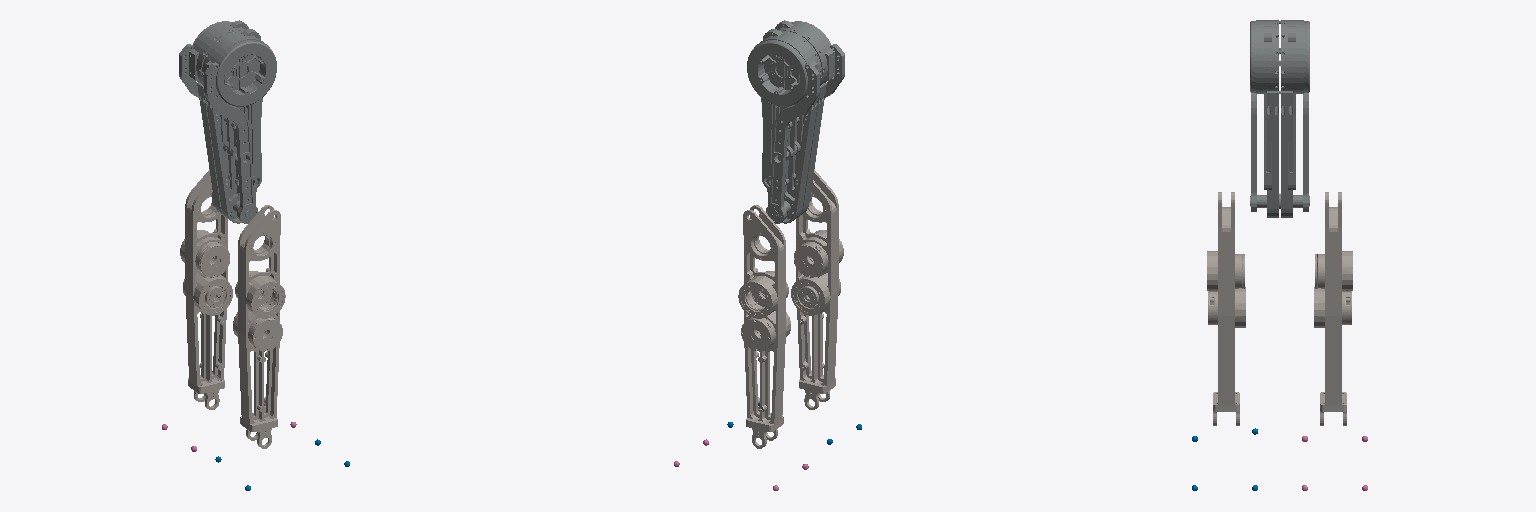
robot.urdf — biped_v3:
<?xml version="1.0" ?>
<!-- =================================================================================== -->
<!-- |    This document was autogenerated by xacro from [local-path]/workspace/kuavo-ros-control/src/humanoid-control/humanoid_interface_drake/models/biped_gen4.2/urdf/biped_v3.xacro | -->
<!-- |    EDITING THIS FILE BY HAND IS NOT RECOMMENDED                                 | -->
<!-- =================================================================================== -->
<robot name="biped_v3" xmlns:drake="https://drake.mit.edu">
  <link name="torso">
    <inertial>
      <origin rpy="0 0 0" xyz="-0.01779947 0.00029663 0.18176446"/>
      <mass value="30.24184316"/>
      <inertia ixx="0.84217451" ixy="-0.00019450" ixz="0.06746774" iyy="0.73769958" iyz="-0.00007935" izz="0.24371683"/>
    </inertial>
    <visual>
      <origin rpy="0 0 0" xyz="0 0 0"/>
      <geometry>
        <mesh filename="../../meshes/torso.STL"/>
      </geometry>
      <material name="">
        <color rgba="0.43137 0.45098 0.43137 1"/>
      </material>
    </visual>
    <!-- <collision>
      <origin xyz="0 0 0" rpy="0 0 0" />
      <geometry>
        <mesh filename="../../meshes/torso.STL" />
      </geometry>
    </collision> -->
  </link>
  <link name="l_leg_roll">
    <inertial>
      <origin rpy="0 0 0" xyz="-0.00430148 -0.00002708 -0.00851195"/>
      <mass value="1.71093115"/>
      <inertia ixx="0.00206092" ixy="-0.00000197" ixz="-0.00006944" iyy="0.00277274" iyz="0.00000510" izz="0.00370826"/>
    </inertial>
    <visual>
      <origin rpy="0 0 0" xyz="0 0 0"/>
      <geometry>
        <mesh filename="../../meshes/l_leg_roll.STL"/>
      </geometry>
      <material name="">
        <color rgba="0.6902 0.65882 0.63922 1"/>
      </material>
    </visual>
  </link>
  <joint name="l_leg_roll_joint" type="continuous">
    <origin rpy="0 0 0" xyz="-0.0024999 0.087 -0.066"/>
    <parent link="torso"/>
    <child link="l_leg_roll"/>
    <axis xyz="1 0 0"/>
    <limit effort="100" lower="-0.78" upper="1.57" velocity="25"/>
  </joint>
  <!--        ssss -->
  <transmission type="SimpleTransmission">
    <joint name="l_leg_roll_joint"/>
    <actuator name="l_leg_roll_motor"/>
  </transmission>
  <!-- sssssssss -->
  <link name="l_leg_yaw">
    <inertial>
      <origin rpy="0 0 0" xyz="0.00000000 -0.00322560 -0.09080869"/>
      <mass value="0.55762936"/>
      <inertia ixx="0.00213816" ixy="0.00000000" ixz="-0.00000003" iyy="0.00118284" iyz="0.00004162" izz="0.00139547"/>
    </inertial>
    <visual>
      <origin rpy="0 0 0" xyz="0 0 0"/>
      <geometry>
        <mesh filename="../../meshes/l_leg_yaw.STL"/>
      </geometry>
      <material name="">
        <color rgba="0.65098 0.61961 0.58824 1"/>
      </material>
    </visual>
  </link>
  <joint name="l_leg_yaw_joint" type="continuous">
    <origin rpy="0 0 0" xyz="0 0 0"/>
    <parent link="l_leg_roll"/>
    <child link="l_leg_yaw"/>
    <axis xyz="0 0 1"/>
    <limit effort="100" lower="-1.57" upper="1.57" velocity="25"/>
  </joint>
  <!--        ssss -->
  <transmission type="SimpleTransmission">
    <joint name="l_leg_yaw_joint"/>
    <actuator name="l_leg_yaw_motor"/>
  </transmission>
  <!-- sssssssss -->
  <link name="l_leg_pitch">
    <inertial>
      <origin rpy="0 0 0" xyz="0.00185677 0.01023458 -0.08558380"/>
      <mass value="4.43577451"/>
      <inertia ixx="0.04271209" ixy="-0.00000777" ixz="-0.00143032" iyy="0.04341831" iyz="-0.00092942" izz="0.01102339"/>
    </inertial>
    <visual>
      <origin rpy="0 0 0" xyz="0 0 0"/>
      <geometry>
        <mesh filename="../../meshes/l_leg_pitch.STL"/>
      </geometry>
      <material name="">
        <color rgba="0.52941 0.54902 0.54902 1"/>
      </material>
    </visual>
  </link>
  <joint name="l_leg_pitch_joint" type="continuous">
    <origin rpy="0 0 0" xyz="0 0.0 -0.1287"/>
    <parent link="l_leg_yaw"/>
    <child link="l_leg_pitch"/>
    <axis xyz="0 1 0"/>
    <limit effort="100" lower="-2.35" upper="0.78" velocity="47"/>
  </joint>
  <!--        ssss -->
  <transmission type="SimpleTransmission">
    <joint name="l_leg_pitch_joint"/>
    <actuator name="l_leg_pitch_motor"/>
  </transmission>
  <!-- sssssssss -->
  <link name="l_knee">
    <inertial>
      <origin rpy="0 0 0" xyz="0.00716677 -0.00006696 -0.11481925"/>
      <mass value="1.61274530"/>
      <inertia ixx="0.01103699" ixy="0.00000084" ixz="-0.00000711" iyy="0.01095123" iyz="0.00000987" izz="0.00087225"/>
    </inertial>
    <visual>
      <origin rpy="0 0 0" xyz="0 0 0"/>
      <geometry>
        <mesh filename="../../meshes/l_knee.STL"/>
      </geometry>
      <material name="">
        <color rgba="0.68627 0.65882 0.63922 1"/>
      </material>
    </visual>
  </link>
  <joint name="l_knee_pitch_joint" type="revolute">
    <origin rpy="0 0 0" xyz="0.0 0.0 -0.284"/>
    <parent link="l_leg_pitch"/>
    <child link="l_knee"/>
    <axis xyz="0 1 0"/>
    <limit effort="100" lower="0.0" upper="2.618" velocity="47"/>
  </joint>
  <!--        ssss -->
  <transmission type="SimpleTransmission">
    <joint name="l_knee_pitch_joint"/>
    <actuator name="l_knee_pitch_motor"/>
  </transmission>
  <!-- sssssssss -->
  <link name="l_foot_pitch">
    <inertial>
      <origin rpy="0 0 0" xyz="0.00000000 0.00000000 0"/>
      <mass value="0.07193524"/>
      <inertia ixx="0.00000692" ixy="0.00000000" ixz="0.00000000" iyy="0.00000692" iyz="0.00000000" izz="0.00001218"/>
    </inertial>
    <visual>
      <origin rpy="0 0 0" xyz="0 0 0"/>
      <geometry>
        <mesh filename="../../meshes/l_foot_pitch.STL"/>
      </geometry>
      <material name="">
        <color rgba="0.6902 0.65882 0.63922 1"/>
      </material>
    </visual>
  </link>
  <joint name="l_foot_pitch_joint" type="continuous">
    <origin rpy="0 0 0" xyz="0 0.0 -0.346"/>
    <parent link="l_knee"/>
    <child link="l_foot_pitch"/>
    <axis xyz="0 1 0"/>
    <limit effort="100" lower="-1.57" upper="1.57" velocity="25"/>
  </joint>
  <transmission type="SimpleTransmission">
    <joint name="l_foot_pitch_joint"/>
    <actuator name="l_foot_pitch_motor"/>
  </transmission>
  <!-- sssssssss -->
  <link name="l_foot_roll">
    <inertial>
      <origin rpy="0 0 0" xyz="0.03730703 -0.00000226 -0.03934407"/>
      <mass value="0.49004366"/>
      <inertia ixx="0.00037622" ixy="-0.00000003" ixz="-0.00004693" iyy="0.00157919" iyz="0.00000000" izz="0.00171680"/>
    </inertial>
    <visual>
      <origin rpy="0 0 0" xyz="0 0 0"/>
      <geometry>
        <mesh filename="../../meshes/l_foot_roll.STL"/>
      </geometry>
      <material name="">
        <color rgba="0.6902 0.65882 0.63922 1"/>
      </material>
    </visual>
    <visual>
      <origin rpy="0 0 0" xyz="-0.04937 0.04773 -0.0593"/>
      <geometry>
        <sphere radius="0.005"/>
      </geometry>
    </visual>
    <collision>
      <origin rpy="0 0 0" xyz="-0.04937 0.04773 -0.0593"/>
      <geometry>
        <sphere radius="0.005"/>
      </geometry>
    </collision>
    <visual>
      <origin rpy="0 0 0" xyz="-0.04937 -0.04773 -0.0593"/>
      <geometry>
        <sphere radius="0.005"/>
      </geometry>
    </visual>
    <collision>
      <origin rpy="0 0 0" xyz="-0.04937 -0.04773 -0.0593"/>
      <geometry>
        <sphere radius="0.005"/>
      </geometry>
    </collision>
    <visual>
      <origin rpy="0 0 0" xyz="0.13564 0.04773 -0.0593"/>
      <geometry>
        <sphere radius="0.005"/>
      </geometry>
    </visual>
    <collision>
      <origin rpy="0 0 0" xyz="0.13564 0.04773 -0.0593"/>
      <geometry>
        <sphere radius="0.005"/>
      </geometry>
    </collision>
    <visual>
      <origin rpy="0 0 0" xyz="0.13564 -0.04773 -0.0593"/>
      <geometry>
        <sphere radius="0.005"/>
      </geometry>
    </visual>
    <collision>
      <origin rpy="0 0 0" xyz="0.13564 -0.04773 -0.0593"/>
      <geometry>
        <sphere radius="0.005"/>
      </geometry>
    </collision>
  </link>
  <joint name="l_foot_roll_joint" type="continuous">
    <origin rpy="0 0 0" xyz="0 0 0"/>
    <parent link="l_foot_pitch"/>
    <child link="l_foot_roll"/>
    <axis xyz="1 0 0"/>
    <limit effort="100" lower="-1.39" upper="0.78" velocity="25"/>
  </joint>
  <transmission type="SimpleTransmission">
    <joint name="l_foot_roll_joint"/>
    <actuator name="l_foot_roll_motor"/>
  </transmission>
  <!-- sssssssss -->
  <frame link="l_foot_roll" name="l_foot_sole" xyz="0.04793 0.0 -0.0593"/>
  <frame link="l_foot_roll" name="l_foot_toe" xyz="0.16902 0.0 -0.0593"/>
  <frame link="l_foot_roll" name="l_foot_heel" xyz="-0.07316 0.0 -0.0593"/>
  <link name="r_leg_roll">
    <inertial>
      <origin rpy="0 0 0" xyz="0.00430146 0.00002709 -0.00851195"/>
      <mass value="1.71093008"/>
      <inertia ixx="0.00206092" ixy="0.00000197" ixz="-0.00006944" iyy="0.00277274" iyz="-0.00000510" izz="0.00370826"/>
    </inertial>
    <visual>
      <origin rpy="0 0 0" xyz="0 0 0"/>
      <geometry>
        <mesh filename="../../meshes/r_leg_roll.STL"/>
      </geometry>
      <material name="">
        <color rgba="0.6902 0.65882 0.63922 1"/>
      </material>
    </visual>
  </link>
  <joint name="r_leg_roll_joint" type="continuous">
    <origin rpy="0 0 0" xyz="-0.0024999 -0.087 -0.066"/>
    <parent link="torso"/>
    <child link="r_leg_roll"/>
    <axis xyz="1 0 0"/>
    <limit effort="100" lower="-1.57" upper="0.78" velocity="25"/>
  </joint>
  <!--        ssss -->
  <transmission type="SimpleTransmission">
    <joint name="r_leg_roll_joint"/>
    <actuator name="r_leg_roll_motor"/>
  </transmission>
  <!-- sssssssss -->
  <link name="r_leg_yaw">
    <inertial>
      <origin rpy="0 0 0" xyz="0.00000000 0.00322561 -0.09080869"/>
      <mass value="0.55762928"/>
      <inertia ixx="0.00213816" ixy="0.00000000" ixz="-0.00000003" iyy="0.00118284" iyz="-0.00004162" izz="0.00139547"/>
    </inertial>
    <visual>
      <origin rpy="0 0 0" xyz="0 0 0"/>
      <geometry>
        <mesh filename="../../meshes/r_leg_yaw.STL"/>
      </geometry>
      <material name="">
        <color rgba="0.650980392156863 0.619607843137255 0.588235294117647 1"/>
      </material>
    </visual>
  </link>
  <joint name="r_leg_yaw_joint" type="continuous">
    <origin rpy="0 0 0" xyz="0.0 0.0 0.0"/>
    <parent link="r_leg_roll"/>
    <child link="r_leg_yaw"/>
    <axis xyz="0 0 1"/>
    <limit effort="100" lower="-1.57" upper="1.57" velocity="25"/>
  </joint>
  <!--        ssss -->
  <transmission type="SimpleTransmission">
    <joint name="r_leg_yaw_joint"/>
    <actuator name="r_leg_yaw_motor"/>
  </transmission>
  <!-- sssssssss -->
  <link name="r_leg_pitch">
    <inertial>
      <origin rpy="0 0 0" xyz="0.00185677 -0.01023458 -0.08558380"/>
      <mass value="4.43577451"/>
      <inertia ixx="0.04271209" ixy="-0.00000777" ixz="-0.00143032" iyy="0.04420935" iyz="-0.00092942" izz="0.01102339"/>
    </inertial>
    <visual>
      <origin rpy="0 0 0" xyz="0 0 0"/>
      <geometry>
        <mesh filename="../../meshes/r_leg_pitch.STL"/>
      </geometry>
      <material name="">
        <color rgba="0.529411764705882 0.549019607843137 0.549019607843137 1"/>
      </material>
    </visual>
  </link>
  <joint name="r_leg_pitch_joint" type="continuous">
    <origin rpy="0 0 0" xyz="0 0 -0.1287"/>
    <parent link="r_leg_yaw"/>
    <child link="r_leg_pitch"/>
    <axis xyz="0 1 0"/>
    <limit effort="100" lower="-2.35" upper="0.78" velocity="47"/>
  </joint>
  <!--        ssss -->
  <transmission type="SimpleTransmission">
    <joint name="r_leg_pitch_joint"/>
    <actuator name="r_leg_pitch_motor"/>
  </transmission>
  <!-- sssssssss -->
  <link name="r_knee">
    <inertial>
      <origin rpy="0 0 0" xyz="0.00716677 0.00006696 -0.11481925"/>
      <mass value="1.61274530"/>
      <inertia ixx="0.01103699" ixy="0.00000084" ixz="-0.00000711" iyy="0.01095123" iyz="0.00000987" izz="0.00087225"/>
    </inertial>
    <visual>
      <origin rpy="0 0 0" xyz="0 0 0"/>
      <geometry>
        <mesh filename="../../meshes/r_knee.STL"/>
      </geometry>
      <material name="">
        <color rgba="0.686274509803922 0.658823529411765 0.63921568627451 1"/>
      </material>
    </visual>
  </link>
  <joint name="r_knee_pitch_joint" type="revolute">
    <origin rpy="0 0 0" xyz="0 0 -0.284"/>
    <parent link="r_leg_pitch"/>
    <child link="r_knee"/>
    <axis xyz="0 1 0"/>
    <limit effort="100" lower="0.0" upper="2.618" velocity="47"/>
  </joint>
  <!--        ssss -->
  <transmission type="SimpleTransmission">
    <joint name="r_knee_pitch_joint"/>
    <actuator name="r_knee_pitch_motor"/>
  </transmission>
  <!-- sssssssss -->
  <link name="r_foot_pitch">
    <inertial>
      <origin rpy="0 0 0" xyz="0 0.00000000 0"/>
      <mass value="0.07193524"/>
      <inertia ixx="0.00000692" ixy="0" ixz="0" iyy="0.00000692" iyz="0" izz="0.00001218"/>
    </inertial>
    <visual>
      <origin rpy="0 0 0" xyz="0 0 0"/>
      <geometry>
        <mesh filename="../../meshes/r_foot_pitch.STL"/>
      </geometry>
      <material name="">
        <color rgba="0.690196078431373 0.658823529411765 0.63921568627451 1"/>
      </material>
    </visual>
  </link>
  <joint name="r_foot_pitch_joint" type="continuous">
    <origin rpy="0 0 0" xyz="0 0 -0.346"/>
    <parent link="r_knee"/>
    <child link="r_foot_pitch"/>
    <axis xyz="0 1 0"/>
    <limit effort="100" lower="-1.57" upper="1.57" velocity="25"/>
  </joint>
  <!--        ssss -->
  <transmission type="SimpleTransmission">
    <joint name="r_foot_pitch_joint"/>
    <actuator name="r_foot_pitch_motor"/>
  </transmission>
  <!-- sssssssss -->
  <link name="r_foot_roll">
    <inertial>
      <origin rpy="0 0 0" xyz="0.03730703 0.00000225 -0.03934407"/>
      <mass value="0.49004366"/>
      <inertia ixx="0.00037622" ixy="0.00000003" ixz="-0.00004693" iyy="0.00157919" iyz="0.00000000" izz="0.00171680"/>
    </inertial>
    <visual>
      <origin rpy="0 0 0" xyz="0 0 0"/>
      <geometry>
        <mesh filename="../../meshes/r_foot_roll.STL"/>
      </geometry>
      <material name="">
        <color rgba="0.690196078431373 0.658823529411765 0.63921568627451 1"/>
      </material>
    </visual>
    <visual>
      <origin rpy="0 0 0" xyz="-0.04937 0.04773 -0.0465"/>
      <geometry>
        <sphere radius="0.005"/>
      </geometry>
    </visual>
    <collision>
      <origin rpy="0 0 0" xyz="-0.04937 0.04773 -0.0593"/>
      <geometry>
        <sphere radius="0.005"/>
      </geometry>
    </collision>
    <visual>
      <origin rpy="0 0 0" xyz="-0.04937 -0.04773 -0.0593"/>
      <geometry>
        <sphere radius="0.005"/>
      </geometry>
    </visual>
    <collision>
      <origin rpy="0 0 0" xyz="-0.04937 -0.04773 -0.0593"/>
      <geometry>
        <sphere radius="0.005"/>
      </geometry>
    </collision>
    <visual>
      <origin rpy="0 0 0" xyz="0.13564 0.04773 -0.0593"/>
      <geometry>
        <sphere radius="0.005"/>
      </geometry>
    </visual>
    <collision>
      <origin rpy="0 0 0" xyz="0.13564 0.04773 -0.0593"/>
      <geometry>
        <sphere radius="0.005"/>
      </geometry>
    </collision>
    <visual>
      <origin rpy="0 0 0" xyz="0.13564 -0.04773 -0.0593"/>
      <geometry>
        <sphere radius="0.005"/>
      </geometry>
    </visual>
    <collision>
      <origin rpy="0 0 0" xyz="0.13564 -0.04773 -0.0593"/>
      <geometry>
        <sphere radius="0.005"/>
      </geometry>
    </collision>
  </link>
  <joint name="r_foot_roll_joint" type="continuous">
    <origin rpy="0 0 0" xyz="0 0 0"/>
    <parent link="r_foot_pitch"/>
    <child link="r_foot_roll"/>
    <axis xyz="1 0 0"/>
    <limit effort="100" lower="-1.39" upper="0.78" velocity="25"/>
  </joint>
  <!--        ssss -->
  <transmission type="SimpleTransmission">
    <joint name="r_foot_roll_joint"/>
    <actuator name="r_foot_roll_motor"/>
  </transmission>
  <!-- sssssssss -->
  <frame link="r_foot_roll" name="r_foot_sole" xyz="0.04793 0.0 -0.0593"/>
  <frame link="r_foot_roll" name="r_foot_toe" xyz="0.16902 0.0 -0.0593"/>
  <frame link="r_foot_roll" name="r_foot_heel" xyz="-0.07316 -0.0 -0.0593"/>
</robot>

--- Render facts (derived) ---
The picture shows the robot from 3 angles, left to right: view 1: azimuth 30°, elevation 25°; view 2: azimuth 150°, elevation 25°; view 3: azimuth 270°, elevation 25°; orthographic projection.
Model biped_v3 with 13 links and 12 joints (2 revolute, 10 continuous), rooted at torso, posed every joint at zero.
Visible links, largest first — view 1: r_knee, l_knee, l_leg_pitch, r_leg_pitch; view 2: l_knee, r_knee, r_leg_pitch, l_leg_pitch; view 3: l_knee, r_knee, l_leg_pitch, r_leg_pitch.
Boxes of the visible links, x1,y1,x2,y2 form: r_knee: (233, 205, 285, 448); l_knee: (180, 169, 232, 409); l_leg_pitch: (179, 20, 276, 223); r_leg_pitch: (189, 21, 261, 223); l_knee: (738, 205, 790, 448); r_knee: (791, 169, 843, 409); r_leg_pitch: (747, 20, 844, 223); l_leg_pitch: (762, 21, 834, 223); l_knee: (1314, 192, 1352, 425); r_knee: (1207, 192, 1245, 425); l_leg_pitch: (1250, 20, 1309, 217); r_leg_pitch: (1250, 20, 1309, 217).
Bounding box of the posed robot: 0.2146 × 0.2795 × 0.7566 m (x, y, z).
4 mesh visuals loaded from 13 distinct referenced files (4 binary STL); not drawn: 9 (reference not matched to a file when rendering).